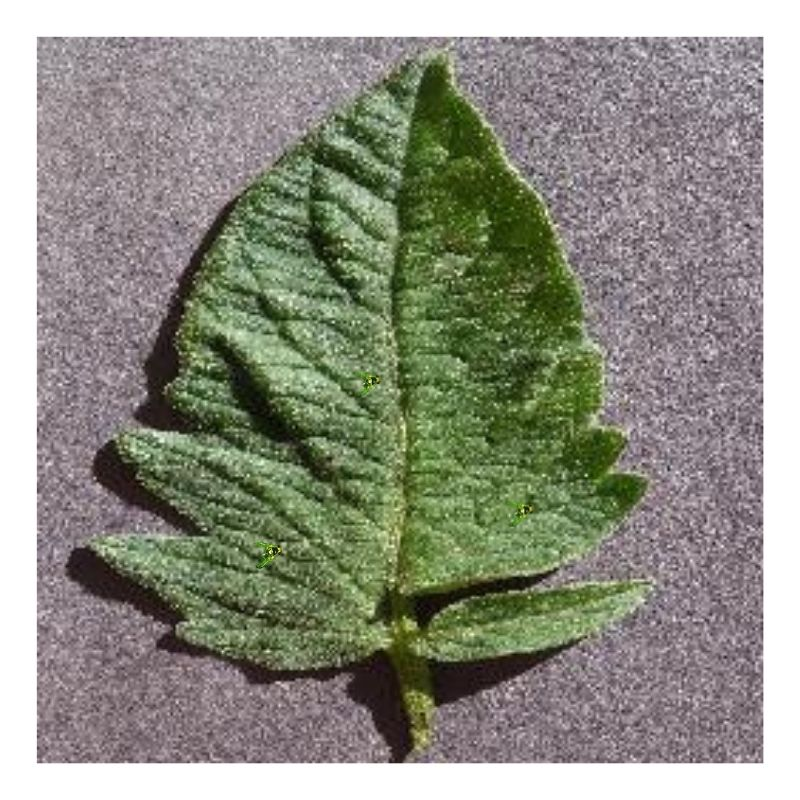liriomyza: (254, 541, 284, 570), (354, 368, 380, 397), (509, 499, 532, 527)
